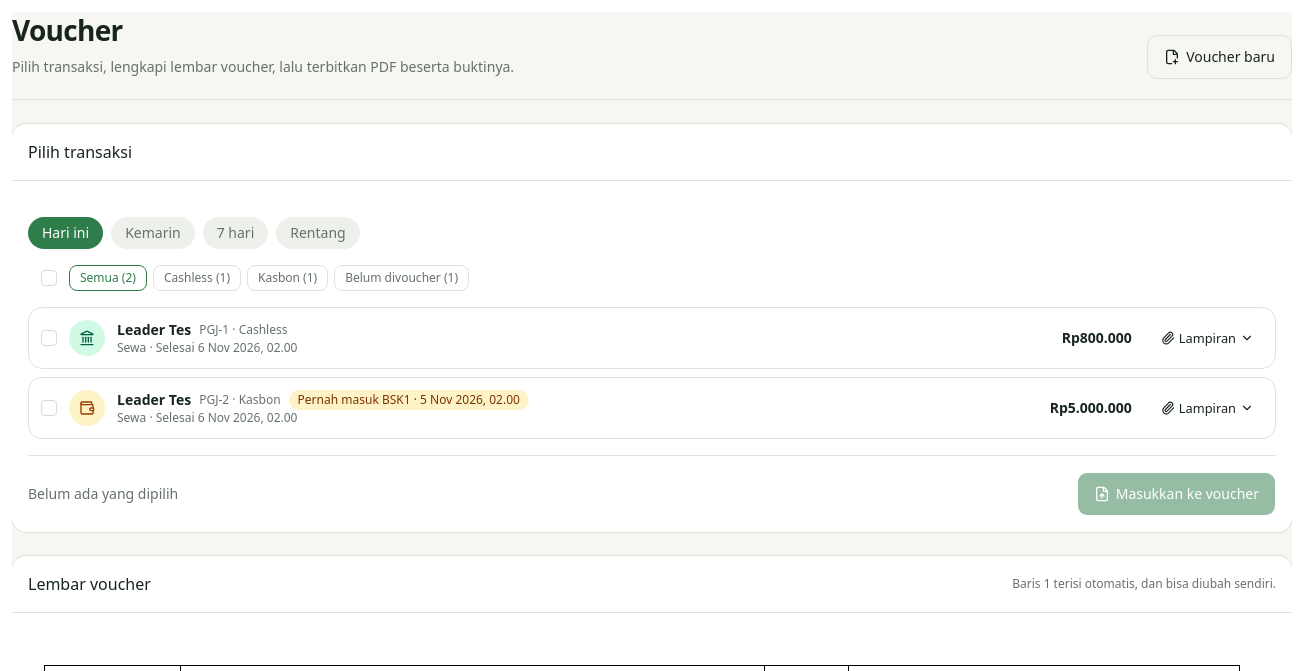
VoucherPage transaction picker › filters, selects what is visible and sums the choice
Expected: the text "PGJ-1 · Cashless" is shown, x1=199 y1=322 x2=287 y2=338
Click the button "Belum divoucher (1)" at (402,278), box x1=334 y1=265 x2=469 y2=291
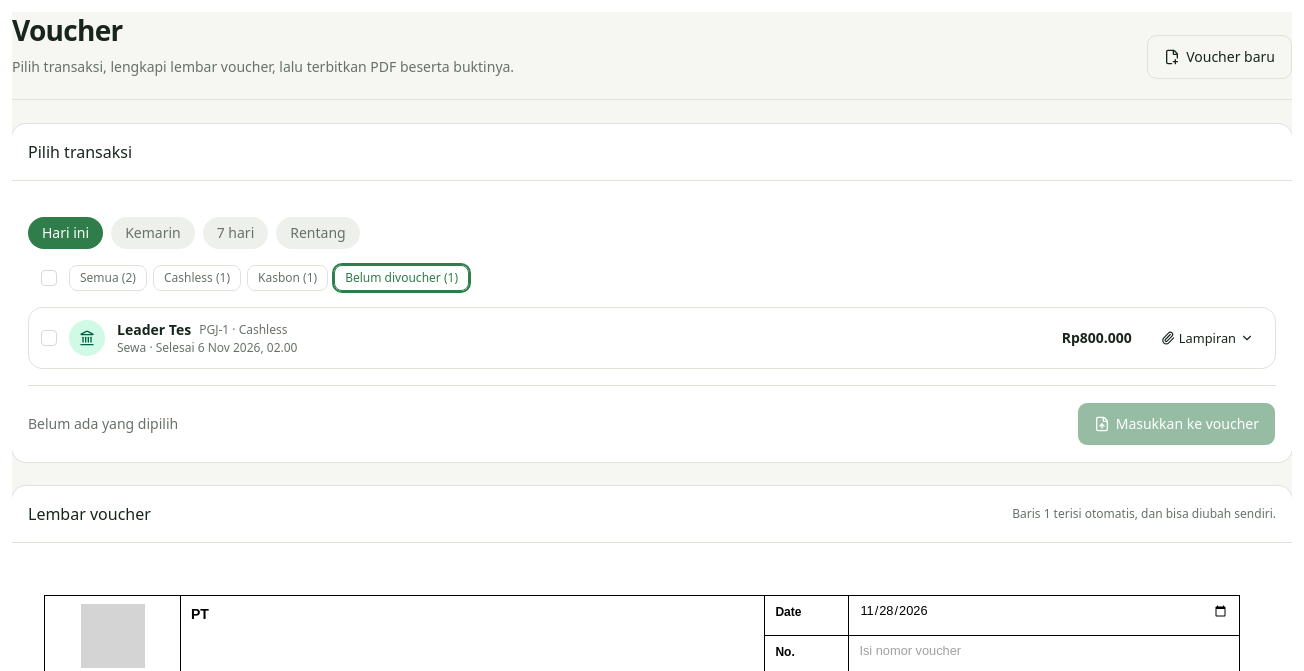
Expected: the text "PGJ-2" is gone
Click the checkbox named "Pilih semua" at (49,278), box x1=41 y1=270 x2=57 y2=286
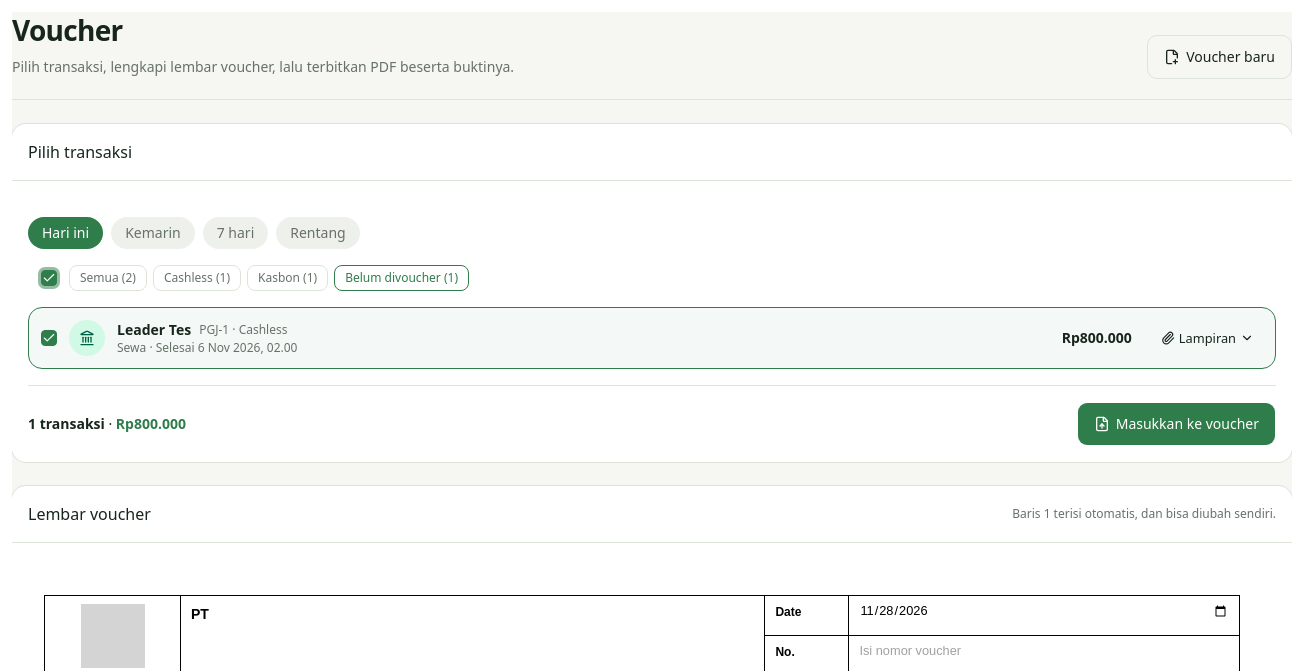
Expected: the text "1 transaksi" is shown, x1=28 y1=414 x2=105 y2=433
